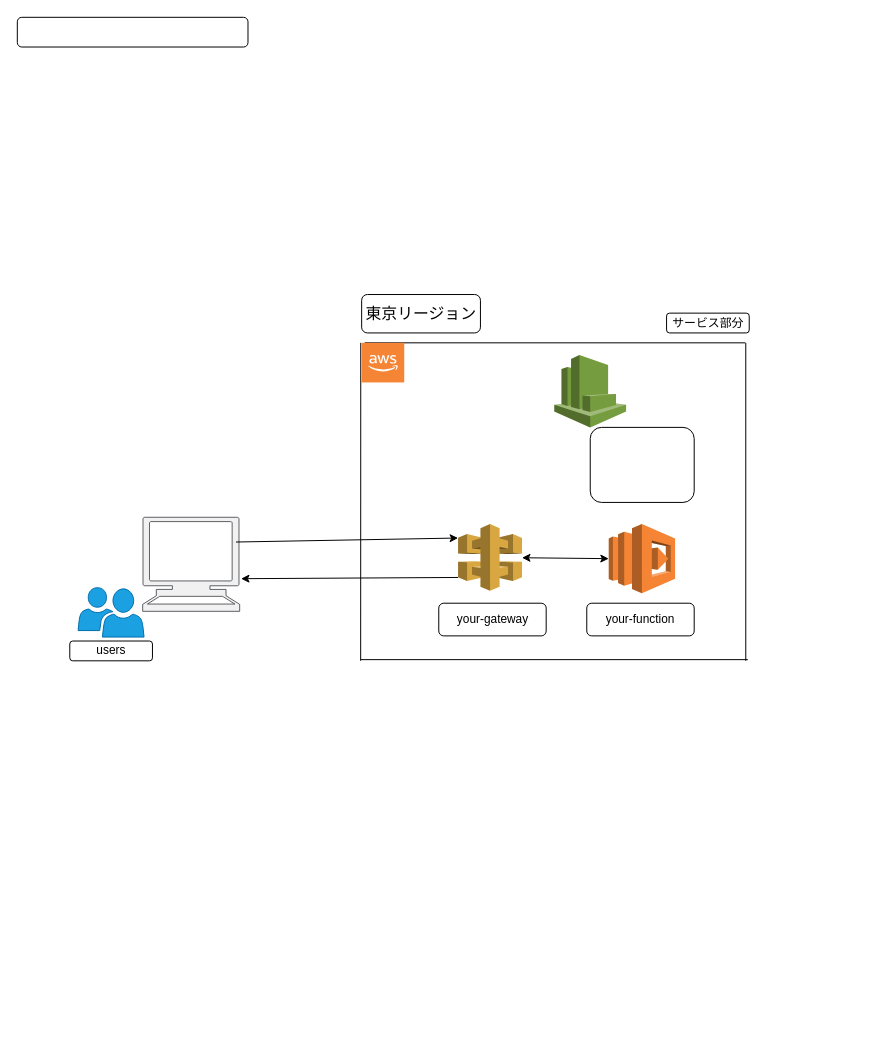
Some shapes in this 893 by 1052 pixel diagram are drawn without their labels. Each missing label, with the box of its shape:
Cloud Watch ログ監視（access.log, function, result error.log）: (589, 426, 694, 502)
the architecture of this stack: (16, 16, 248, 47)
